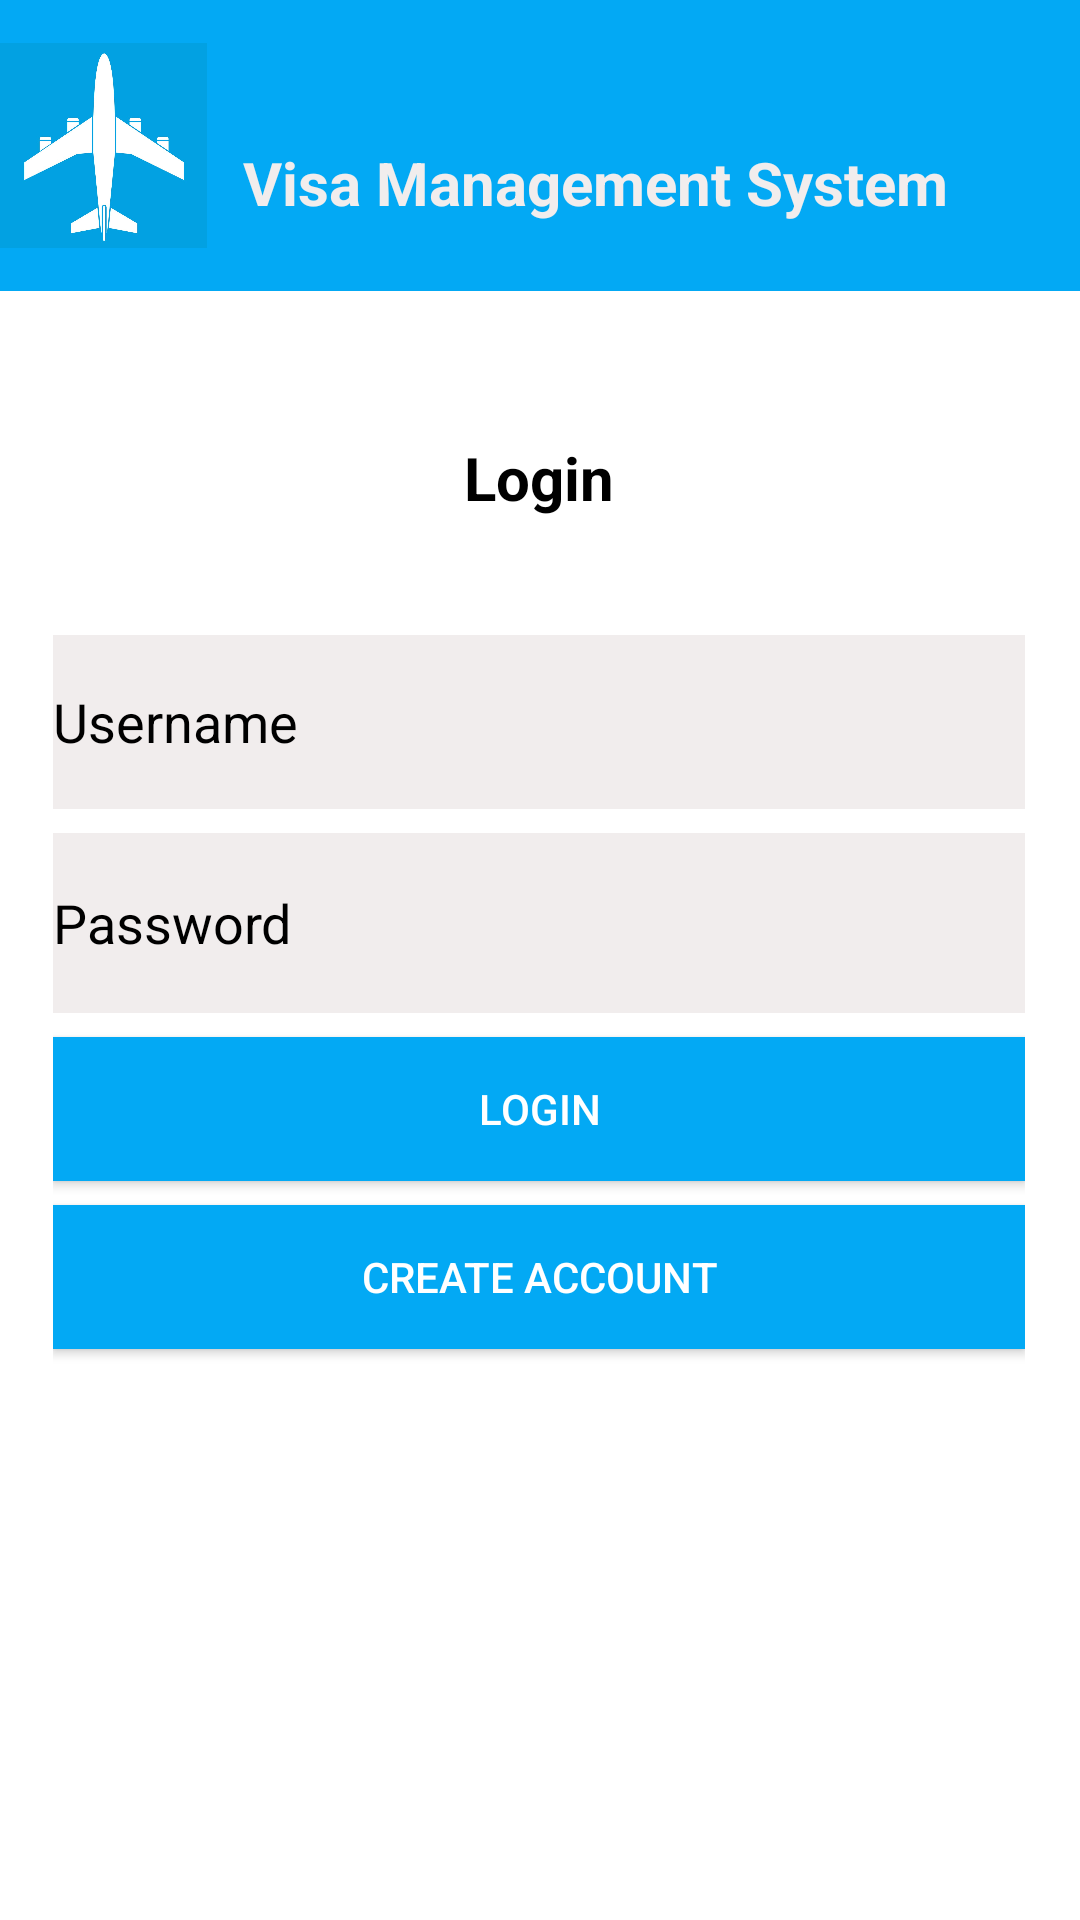

Where icons sit on this 1080 × 1920 app screen, as (x1, y1, x2, y2):
airplane: (0, 43, 207, 248)
